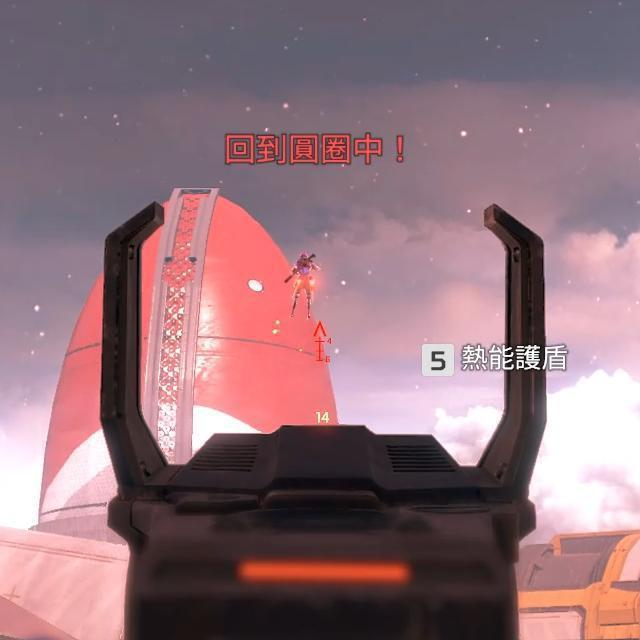avatar: (289, 249, 318, 321)
